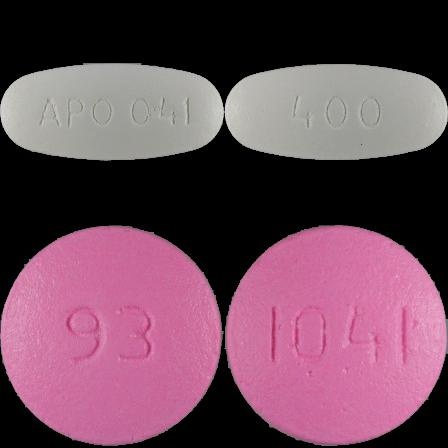68788-9410: (0, 0, 224, 224)
